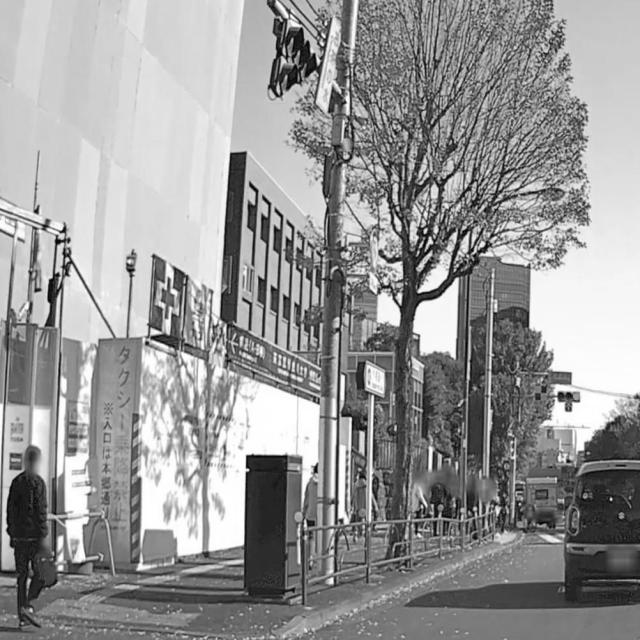maple: (282, 0, 594, 569)
